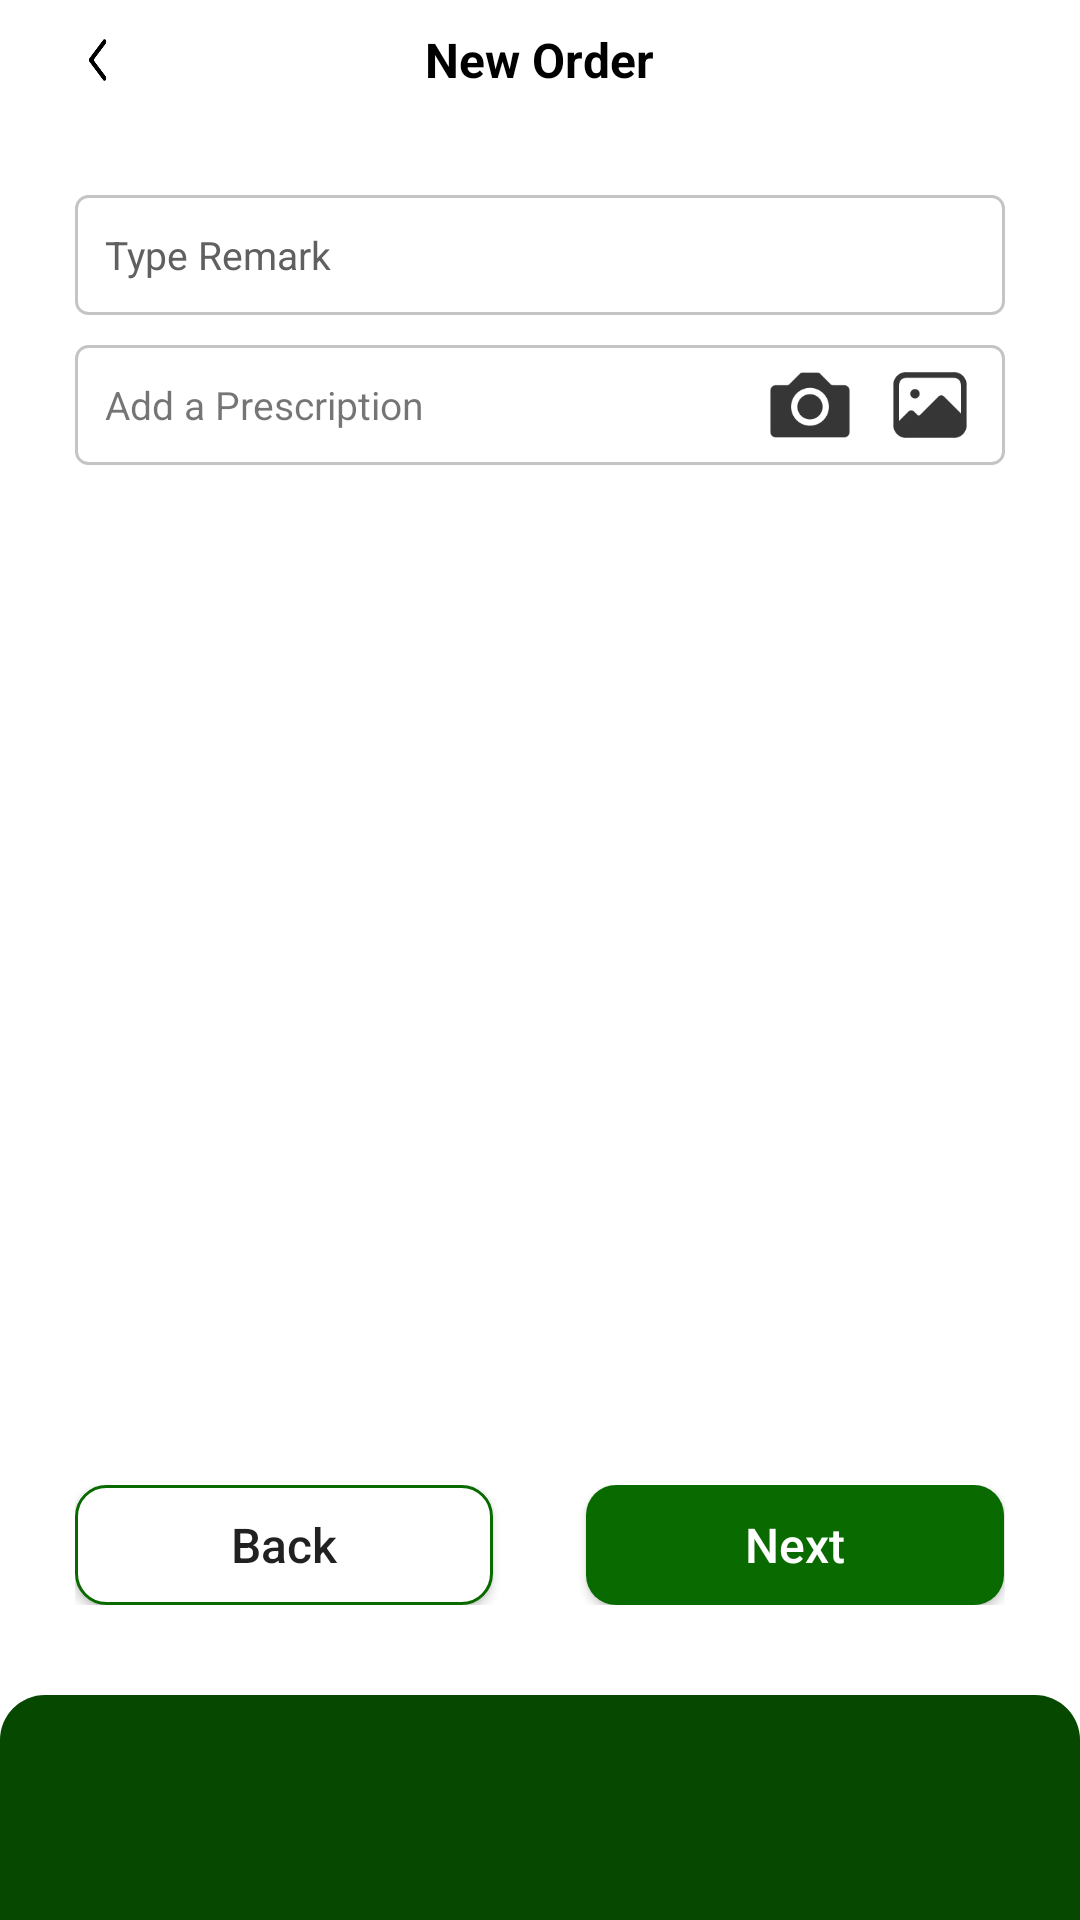

Where icons sit on this 1080x1920 app screen, as (x1, y1, x2, y2):
back arrow: (89, 39, 106, 81)
camera: (770, 372, 850, 438)
